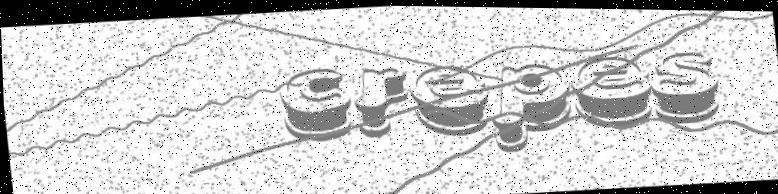c: (276, 64, 355, 144)
e: (566, 50, 655, 129), (407, 60, 489, 137)
p: (484, 58, 575, 153)
r: (350, 64, 412, 139)
s: (647, 47, 722, 124)
